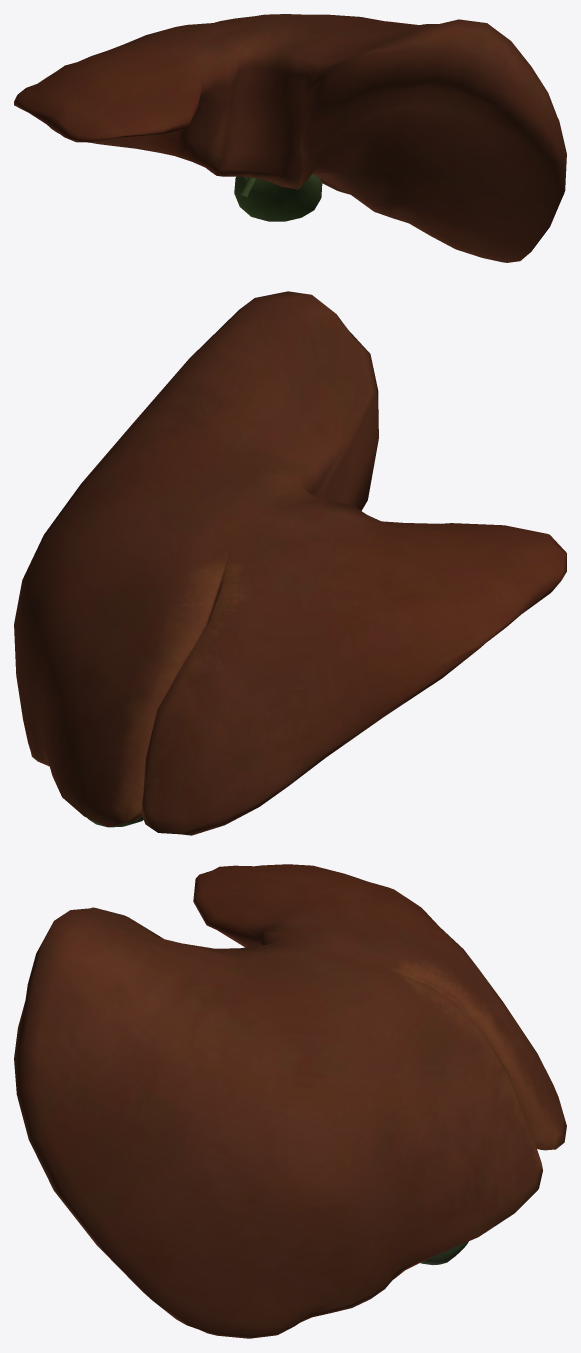
Rendered from hepatitis.glb.
The picture shows the model from 3 angles, top to bottom: view 1: azimuth 30°, elevation 25°; view 2: azimuth 150°, elevation 25°; view 3: azimuth 270°, elevation 25°; orthographic projection. The views are drawn at different scales.
Parts seen in each view (by area): view 1: node_Liver_-994_1, node_Group53789_10674_2; view 2: node_Liver_-994_1; view 3: node_Liver_-994_1.
Part boxes in pixels (left/top/right/bottom): node_Liver_-994_1: left=14, top=14, right=566, bottom=262; node_Group53789_10674_2: left=234, top=174, right=322, bottom=221; node_Liver_-994_1: left=14, top=291, right=566, bottom=835; node_Liver_-994_1: left=14, top=864, right=566, bottom=1338.
Bounding box in the file's own units: 1.44 × 1.02 × 1.45.
2 materials, 2 textured.
